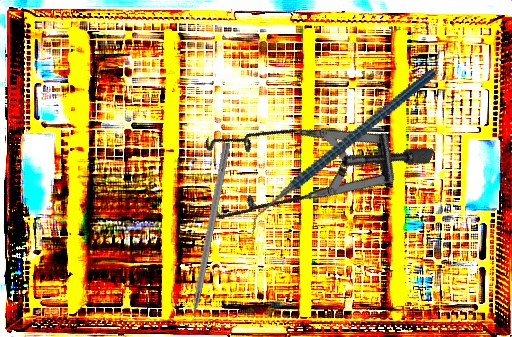Chopper: (218, 68, 467, 239)
Hook Surgical: (184, 141, 231, 336)
Speculum: (173, 54, 436, 301)
